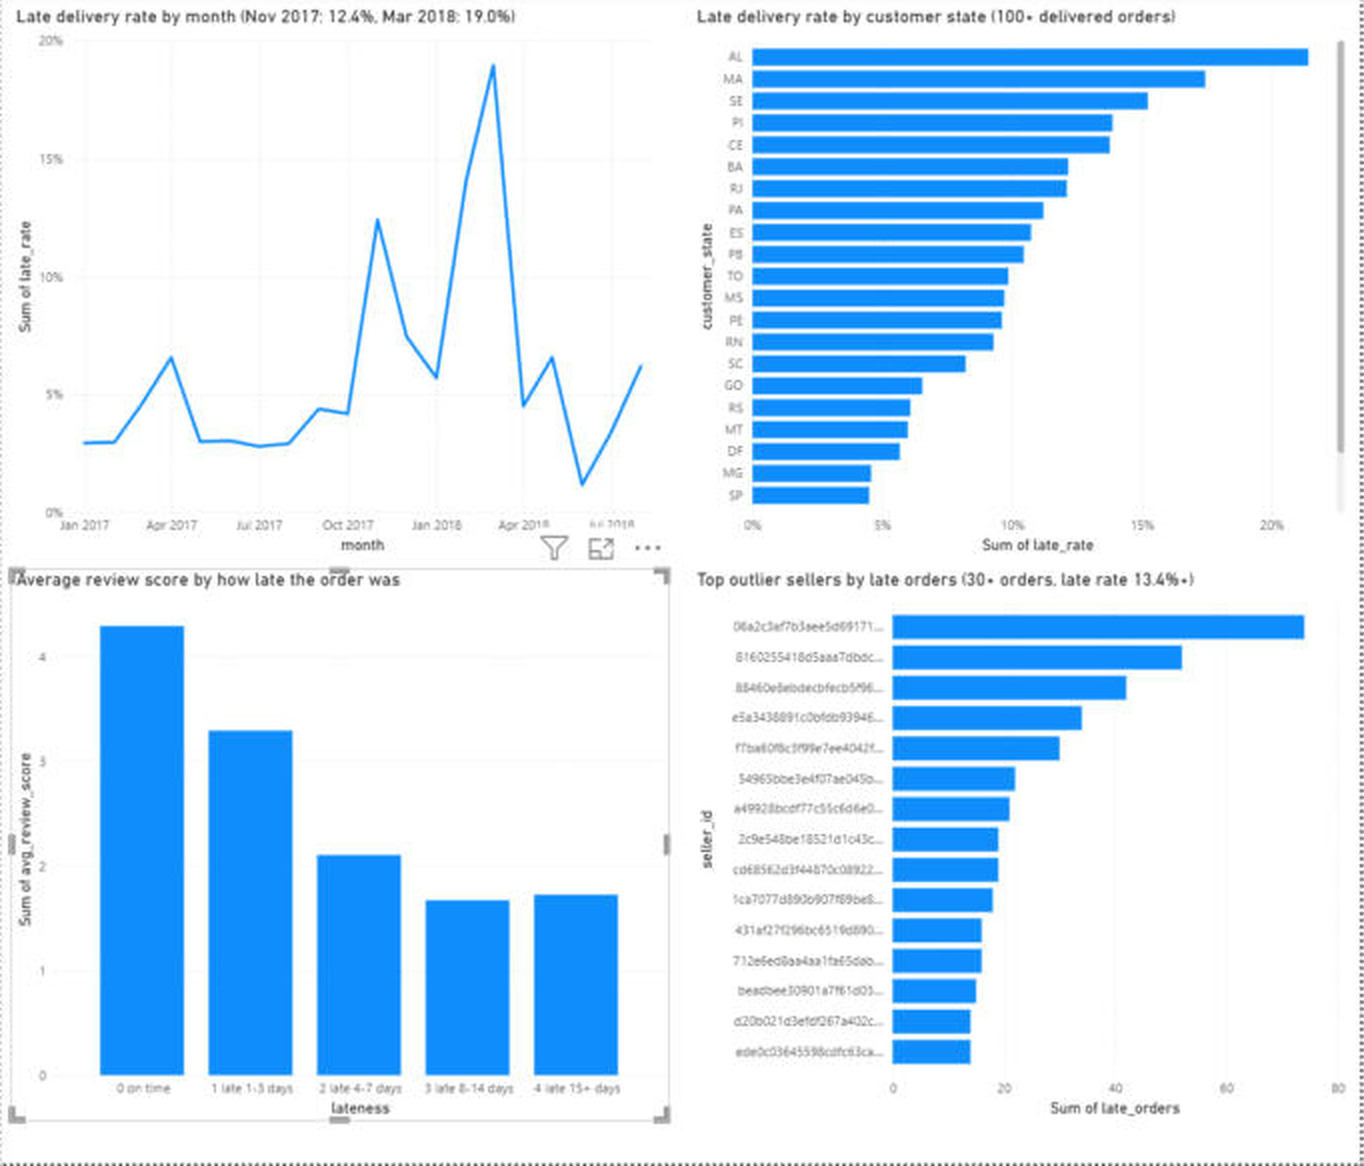

Layout of this report page (visuals, bound fields, positions):
{"tool":"powerbi","page":{"name":"Page 1","canvas":[1280,1100],"ordinal":0},"visuals":[{"type":"lineChart","title":"Late delivery rate by month (Nov 2017: 12.4%, Mar 2018: 19.0%)","fields":{"Y":["Sum(kpi_monthly.late_rate)"],"Category":["kpi_monthly.month"]},"box":[10,10,620,520],"z":0},{"type":"clusteredBarChart","title":"Late delivery rate by customer state (100+ delivered orders)","fields":{"Category":["kpi_state_delivery.customer_state"],"Y":["Sum(kpi_state_delivery.late_rate)"]},"box":[650,10.4,619.9,520],"z":1},{"type":"clusteredColumnChart","title":"Average review score by how late the order was","fields":{"Category":["kpi_review_by_lateness.lateness"],"Y":["Sum(kpi_review_by_lateness.avg_review_score)"]},"box":[10,540,620,520],"z":2},{"type":"clusteredBarChart","title":"Top outlier sellers by late orders (30+ orders, late rate 13.4%+)","fields":{"Category":["kpi_seller_delivery.seller_id"],"Y":["Sum(kpi_seller_delivery.late_orders)"]},"box":[650,540,620,520],"z":3}]}

Visuals, with their boxes in screenshot pixels (x1, y1, x2, y2), scaled from the page's 1280x1100 canvas onto the 1364x1166 screenshot:
"Late delivery rate by month (Nov 2017: 12.4%, Mar 2018: 19.0%)" lineChart: rect(11, 11, 671, 562)
"Late delivery rate by customer state (100+ delivered orders)" clusteredBarChart: rect(693, 11, 1353, 562)
"Average review score by how late the order was" clusteredColumnChart: rect(11, 572, 671, 1124)
"Top outlier sellers by late orders (30+ orders, late rate 13.4%+)" clusteredBarChart: rect(693, 572, 1353, 1124)
